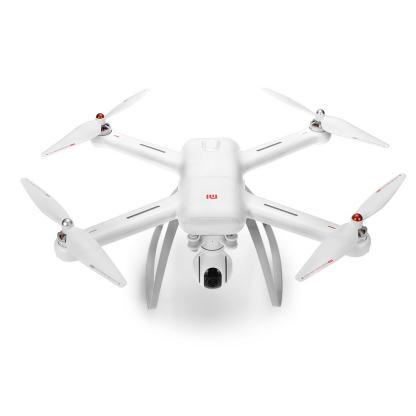drone: (23, 88, 401, 306)
